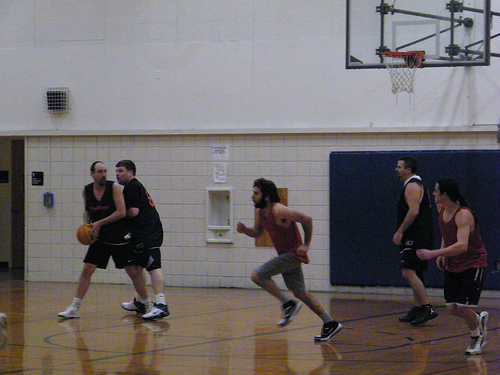basketball: (75, 222, 97, 245)
